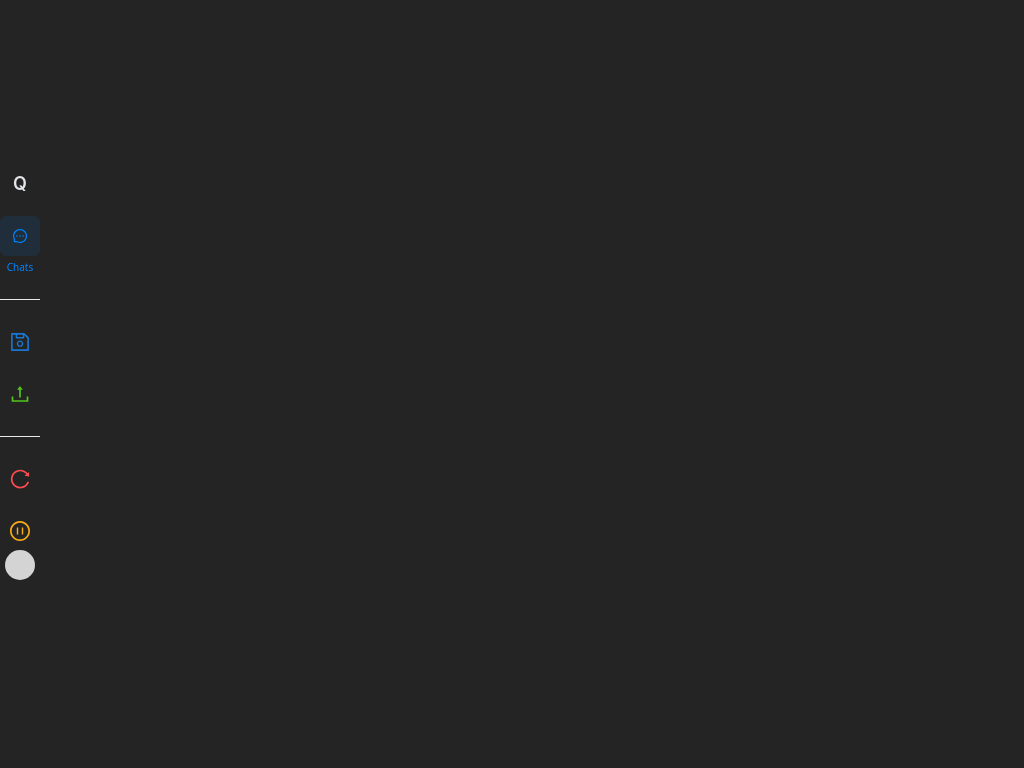
Test: NavigationSidebar › Reset Data Functionality › should open reset confirmation modal
Click the 4th button named "reload" at x=20, y=479, box [10, 469, 30, 489]
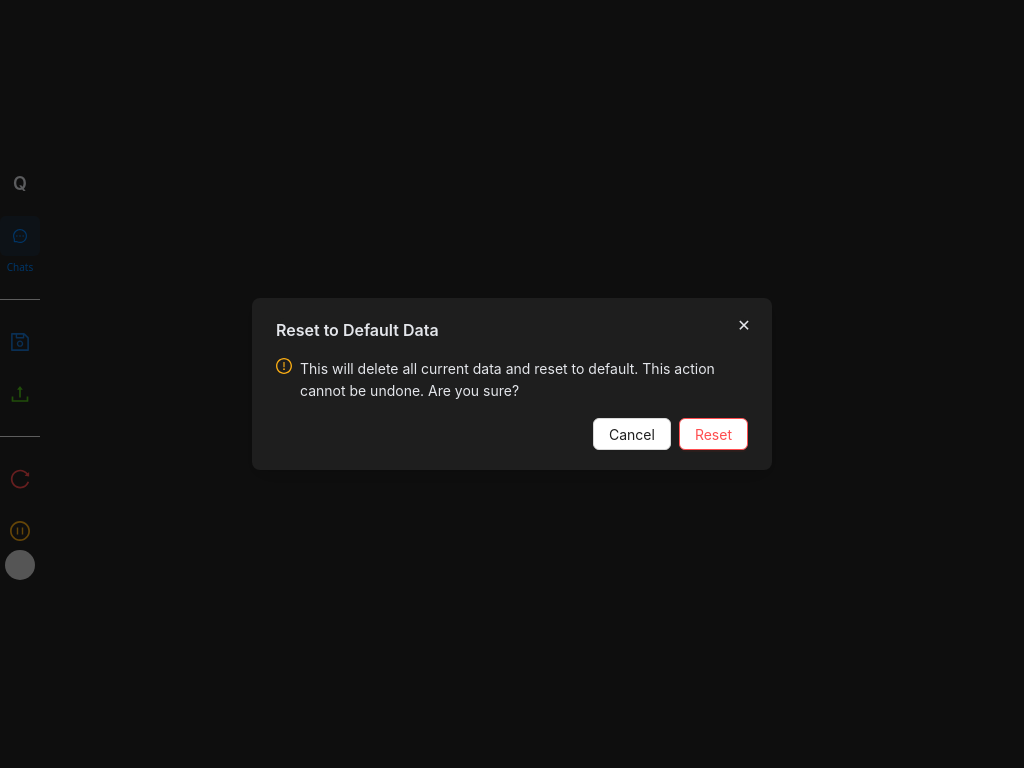
Expected: the text "Reset to Default Data" is shown, [276, 320, 439, 340]
Expected: the text "This will delete all current data and reset to default" is shown, [300, 360, 715, 399]
